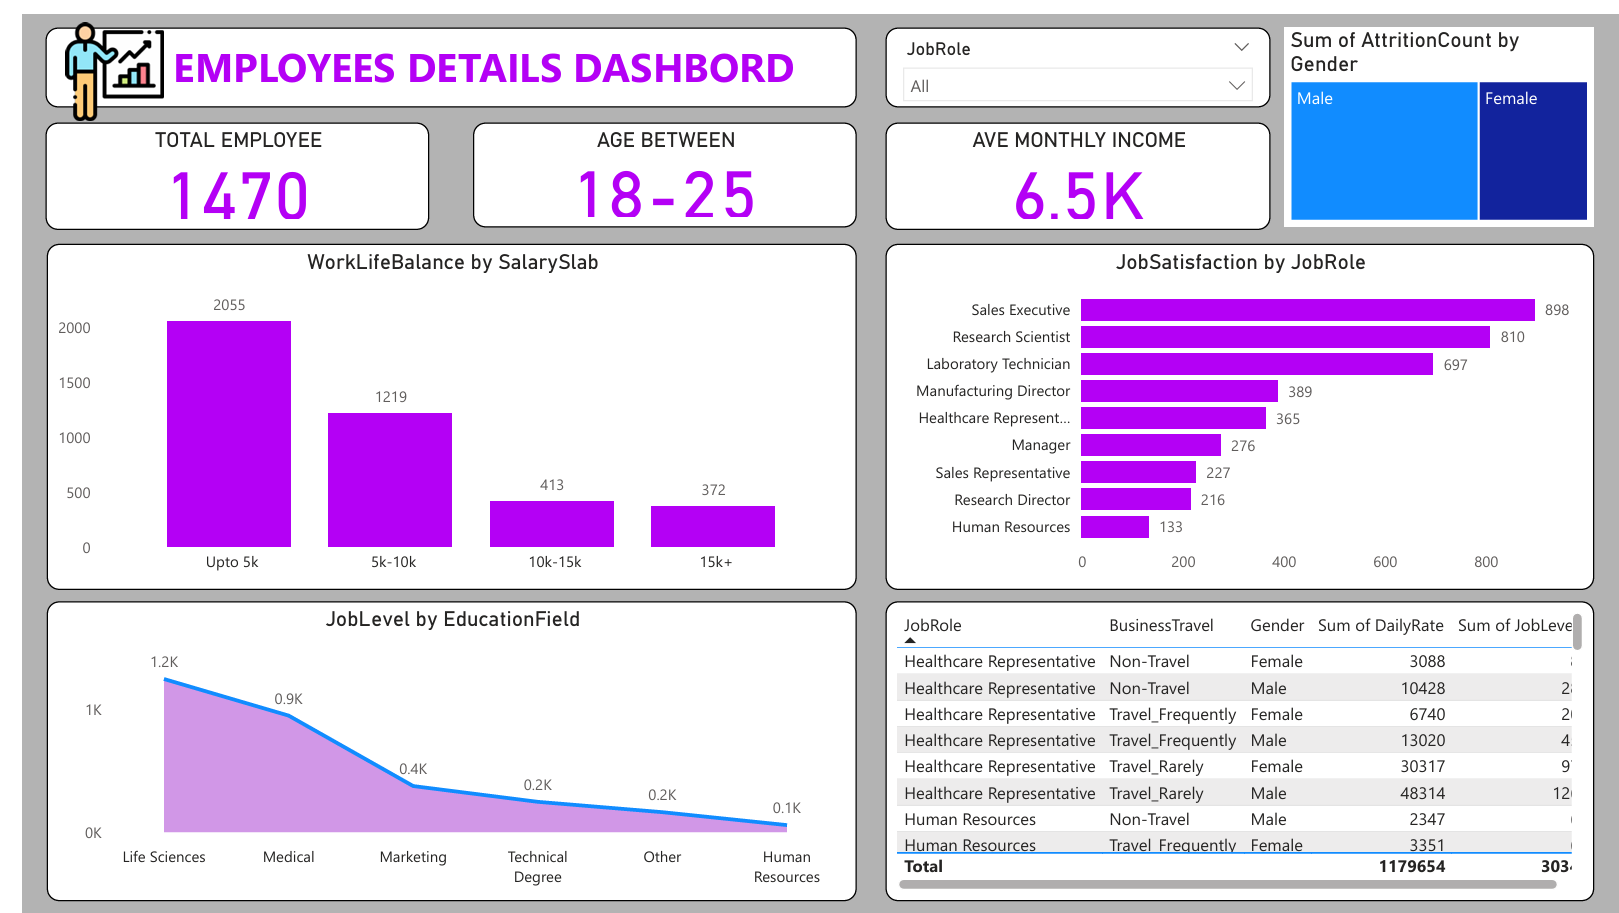

This screenshot's page, from the dashboard's own definition file:
{"tool":"powerbi","page":{"name":"EMPLOYEES  DETAIL'S ","canvas":[1280,720],"ordinal":1},"visuals":[{"type":"textbox","box":[17.8,9.6,649.1,64.5],"z":0},{"type":"card","title":"TOTAL EMPLOYEE ","fields":{"Values":["Sum(HR_Analytics.EmployeeCount)"]},"box":[17.8,86.4,307.4,85.1],"z":1000},{"type":"card","title":"AGE BETWEEN","fields":{"Values":["Min(HR_Analytics.AgeGroup)"]},"box":[359.5,86.4,307.4,83.7],"z":2000},{"type":"card","title":"AVE MONTHLY INCOME ","fields":{"Values":["Avg(HR_Analytics.MonthlyIncome)"]},"box":[690.2,86.4,307.4,85.1],"z":3000},{"type":"slicer","fields":{"Values":["HR_Analytics.JobRole"]},"box":[690.2,9.6,307.4,64.5],"z":4000},{"type":"columnChart","title":"WorkLifeBalance by SalarySlab","fields":{"Category":["HR_Analytics.SalarySlab"],"Y":["Sum(HR_Analytics.WorkLifeBalance)"]},"box":[19.2,182.5,647.7,277.2],"z":5000},{"type":"clusteredBarChart","title":" JobSatisfaction by JobRole","fields":{"Category":["HR_Analytics.JobRole"],"Y":["Sum(HR_Analytics.JobSatisfaction)"]},"box":[690.2,182.5,566.7,277.2],"z":6000},{"type":"areaChart","title":"JobLevel by EducationField","fields":{"Category":["HR_Analytics.EducationField"],"Y":["Sum(HR_Analytics.JobLevel)"]},"box":[19.2,469.3,647.7,240.1],"z":7000},{"type":"tableEx","fields":{"Values":["HR_Analytics.JobRole","HR_Analytics.BusinessTravel","HR_Analytics.Gender","Sum(HR_Analytics.DailyRate)","Sum(HR_Analytics.JobLevel)"]},"box":[690.2,469.3,566.7,240.1],"z":8000},{"type":"treemap","fields":{"Values":["Sum(HR_Analytics.AttritionCount)"],"Group":["HR_Analytics.Gender"]},"box":[1008.6,9.6,248.4,160.5],"z":9000},{"type":"image","box":[28.8,0,89.2,90.6],"z":10000}]}

Visuals, with their boxes in screenshot pixels (x1, y1, x2, y2), scaled from the page's 1280x720 canvas onto the 1619x913 screenshot:
textbox: {"left": 23, "top": 12, "right": 844, "bottom": 94}
"TOTAL EMPLOYEE " card: {"left": 23, "top": 110, "right": 411, "bottom": 217}
"AGE BETWEEN" card: {"left": 455, "top": 110, "right": 844, "bottom": 216}
"AVE MONTHLY INCOME " card: {"left": 873, "top": 110, "right": 1262, "bottom": 217}
slicer - HR_Analytics.JobRole: {"left": 873, "top": 12, "right": 1262, "bottom": 94}
"WorkLifeBalance by SalarySlab" columnChart: {"left": 24, "top": 231, "right": 844, "bottom": 583}
" JobSatisfaction by JobRole" clusteredBarChart: {"left": 873, "top": 231, "right": 1590, "bottom": 583}
"JobLevel by EducationField" areaChart: {"left": 24, "top": 595, "right": 844, "bottom": 900}
tableEx - HR_Analytics.JobRole x HR_Analytics.BusinessTravel: {"left": 873, "top": 595, "right": 1590, "bottom": 900}
treemap - Sum(HR_Analytics.AttritionCount) x HR_Analytics.Gender: {"left": 1276, "top": 12, "right": 1590, "bottom": 216}
image: {"left": 36, "top": 0, "right": 149, "bottom": 115}
